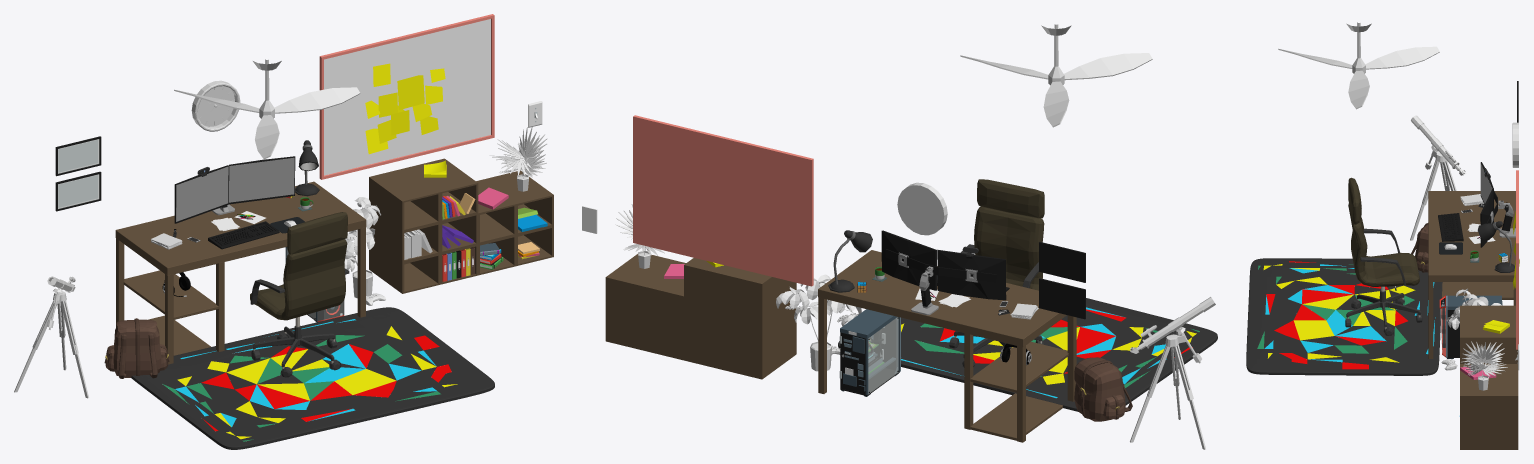
File: scene_room.glb
3 views of the same model, side by side, from view 1: azimuth 30°, elevation 25°; view 2: azimuth 150°, elevation 25°; view 3: azimuth 270°, elevation 25° (orthographic). The views are drawn at different scales.
Visible parts, largest first — view 1: Carpet, GroupWhiteBoard, GroupShelf, ComputerDesk1, Chair, GroupDualScreen, Sticky notes, Ceiling Fan.001, Backpack, Telescope.001, Analog_Cock.001, UmbrellaPalmTree_mesh.001 (+6 smaller); view 2: GroupWhiteBoard, GroupShelf, ComputerDesk1, Carpet, Chair, GroupDualScreen, GroupGamingComputer, Ceiling Fan.001, Backpack, Telescope.001, Analog_Cock.001, CoffePlant_mehs.001 (+4 smaller); view 3: Carpet, GroupShelf, ComputerDesk1, Chair, Ceiling Fan.001, Telescope.001, GroupGamingComputer, UmbrellaPalmTree_mesh.001, GroupDualScreen, Keyboard-aPwr5p1dluw, Light Desk, Backpack (+3 smaller).
Part boxes in pixels (x1,y1,x2,y2): Carpet: (131, 307, 494, 449); GroupWhiteBoard: (319, 14, 494, 179); GroupShelf: (369, 158, 553, 293); ComputerDesk1: (115, 181, 366, 364); Chair: (250, 212, 349, 377); GroupDualScreen: (174, 156, 295, 223); Sticky notes: (365, 63, 445, 154); Ceiling Fan.001: (174, 59, 360, 159); Backpack: (104, 318, 169, 378); Telescope.001: (14, 276, 88, 398); Analog_Cock.001: (191, 80, 240, 131); UmbrellaPalmTree_mesh.001: (489, 126, 547, 191); GroupWhiteBoard: (633, 115, 813, 286); GroupShelf: (605, 254, 796, 379); ComputerDesk1: (818, 250, 1076, 442); Carpet: (838, 298, 1217, 411); Chair: (949, 179, 1044, 367); GroupDualScreen: (881, 230, 1006, 315); GroupGamingComputer: (839, 309, 900, 396); Ceiling Fan.001: (960, 24, 1152, 127); Backpack: (1074, 357, 1132, 421); Telescope.001: (1130, 297, 1215, 449); Analog_Cock.001: (897, 182, 947, 235); CoffePlant_mehs.001: (776, 274, 862, 371); Carpet: (1246, 258, 1442, 375); GroupShelf: (1459, 305, 1518, 449); ComputerDesk1: (1428, 191, 1515, 358); Chair: (1345, 177, 1422, 335); Ceiling Fan.001: (1278, 22, 1439, 109); Telescope.001: (1410, 115, 1466, 240); GroupGamingComputer: (1439, 295, 1502, 358); UmbrellaPalmTree_mesh.001: (1461, 341, 1507, 390); GroupDualScreen: (1480, 162, 1515, 247); Keyboard-aPwr5p1dluw: (1438, 213, 1463, 241); Light Desk: (1477, 221, 1514, 272); Backpack: (1411, 223, 1428, 272).
Size of the model in its own units: 5.42 by 3.01 by 2.62.
